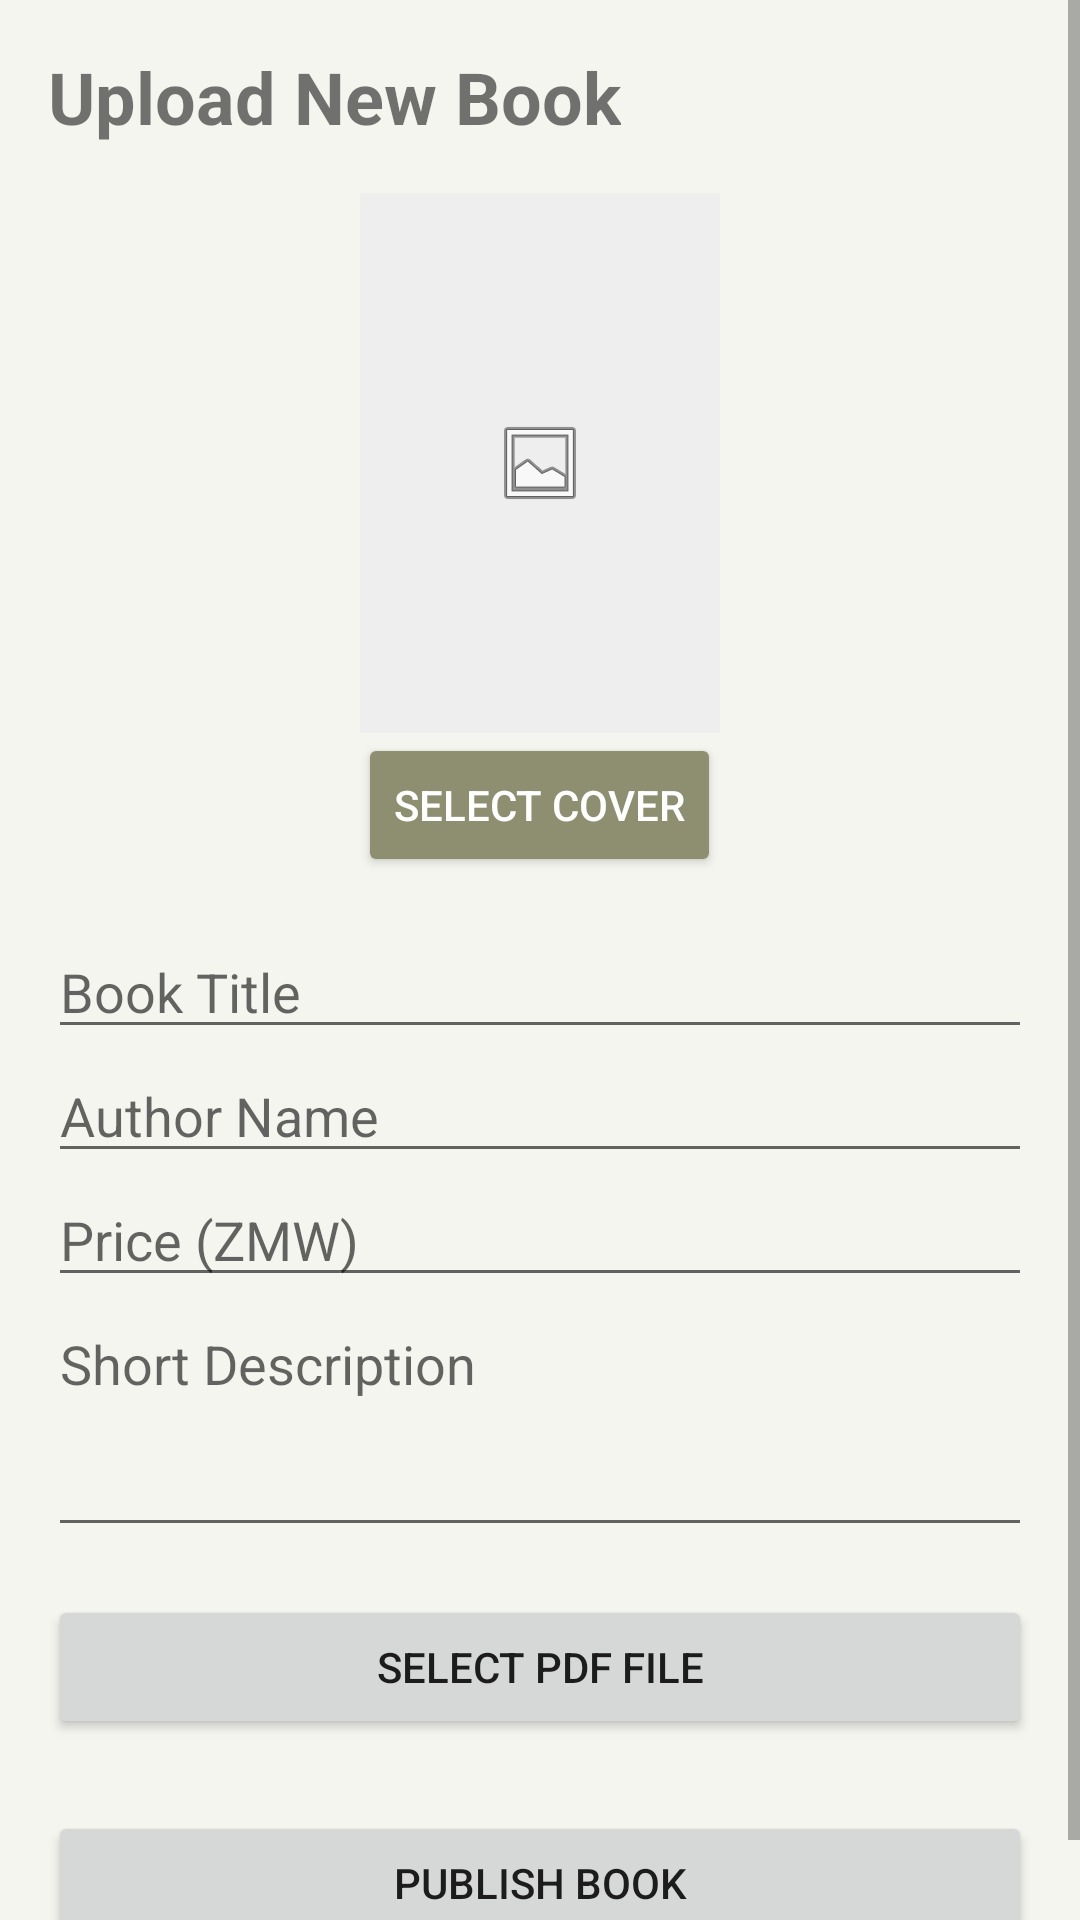

Where icons sit on this 1080w x 1920h app screen, as {"left": x1, "top": y1, "right": x2, "bottom": y2}:
gallery: {"left": 504, "top": 427, "right": 576, "bottom": 499}
